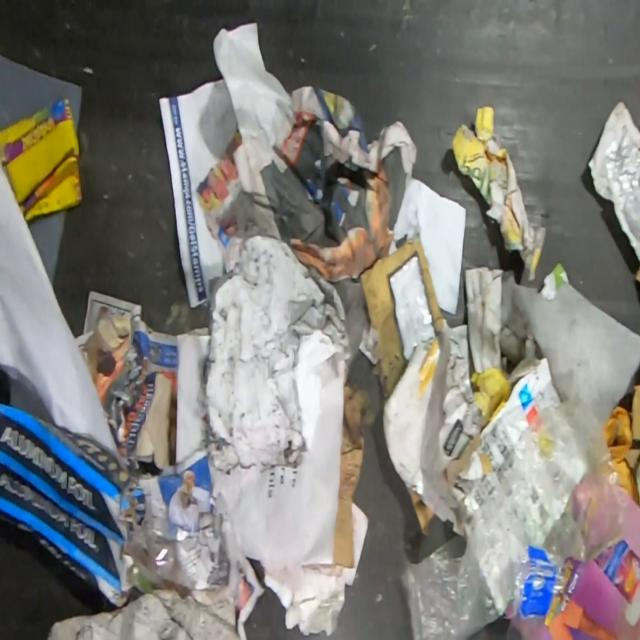cardboard: (0, 403, 146, 608), (452, 105, 546, 282), (0, 96, 83, 223), (331, 383, 375, 569)
soft_plastic: (399, 393, 629, 640), (0, 54, 84, 136), (124, 523, 175, 589), (28, 208, 67, 288)
